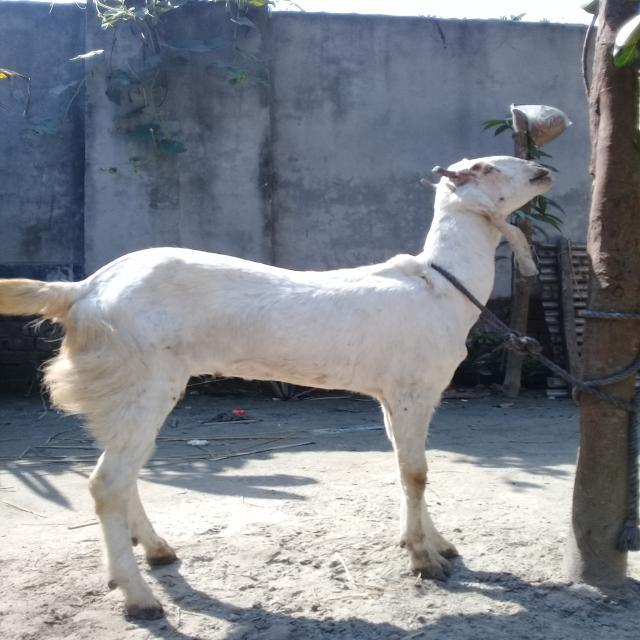Goat: (0, 154, 556, 620)
